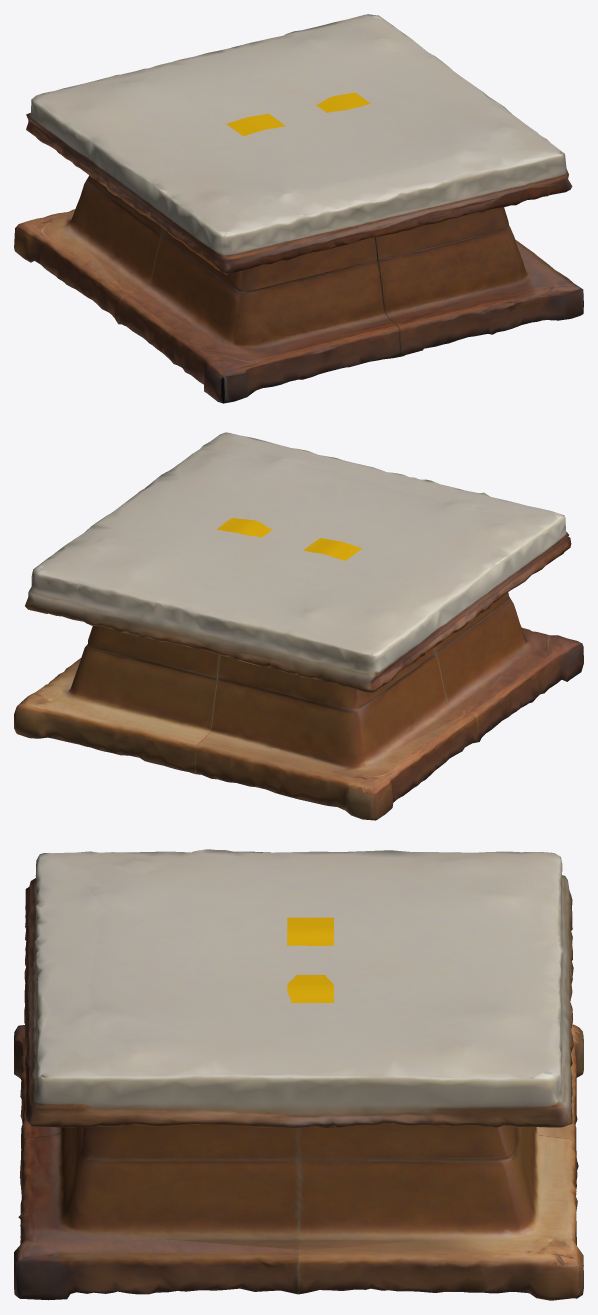
Rendered from benda22.glb.
3 views of the same model, one above another, from view 1: azimuth 30°, elevation 25°; view 2: azimuth 150°, elevation 25°; view 3: azimuth 270°, elevation 25° (orthographic). The views are drawn at different scales.
Visible parts, largest first — view 1: Mesh_0, Plane, Plane.001; view 2: Mesh_0, Plane, Plane.001; view 3: Mesh_0, Plane, Plane.001.
Part boxes in pixels (box(x1,y1,x2,y2)): Mesh_0: box(14, 14, 583, 403); Plane: box(226, 113, 285, 136); Plane.001: box(316, 92, 370, 112); Mesh_0: box(14, 432, 583, 820); Plane: box(303, 538, 362, 560); Plane.001: box(216, 518, 272, 537); Mesh_0: box(14, 849, 583, 1300); Plane: box(287, 917, 333, 945); Plane.001: box(287, 975, 333, 1002).
Size of the model in its own units: 2 by 0.8808 by 2.
Materials: 2 (1 with a texture image).
